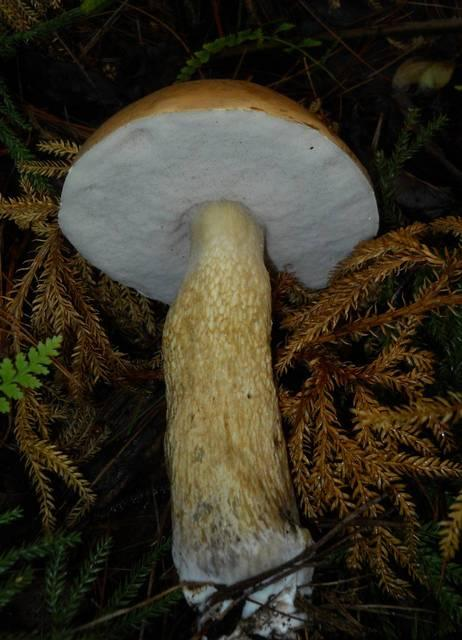Non-edible Mushroom: (56, 76, 381, 638)
